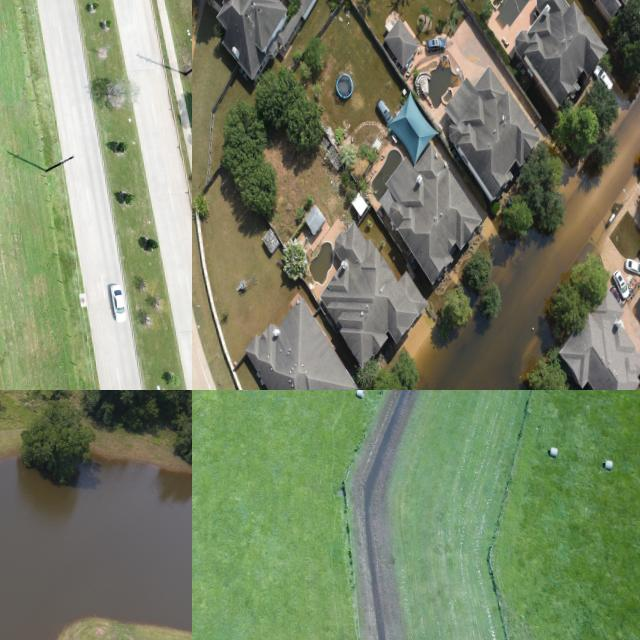fire: (414, 99, 640, 390)
